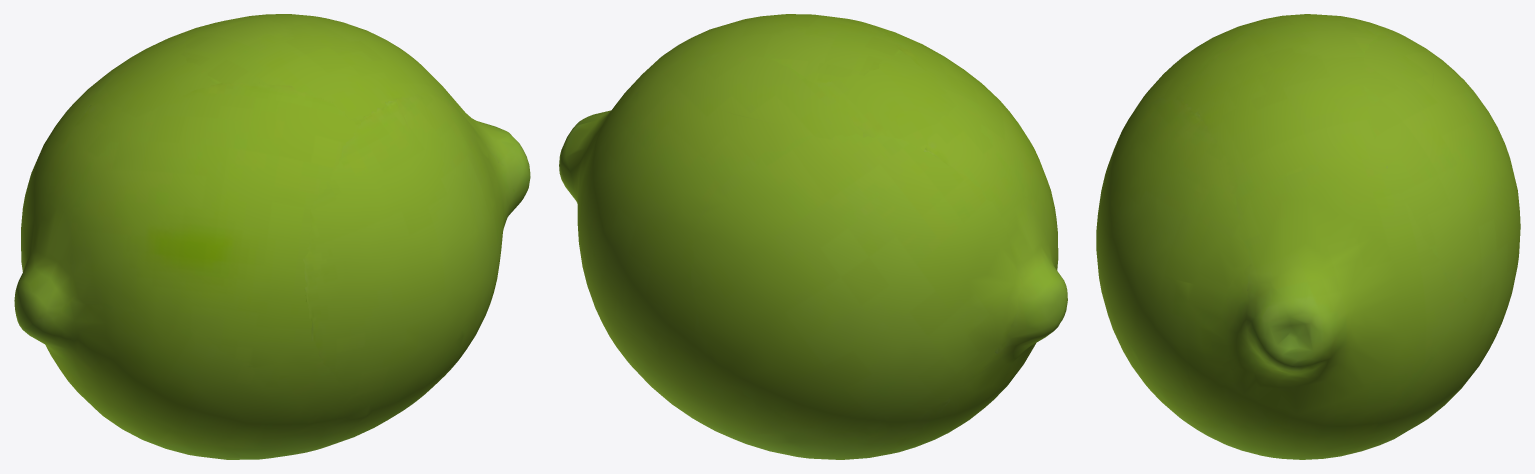
The model's file is lime.glb.
3 views of the same model, side by side, from view 1: azimuth 30°, elevation 25°; view 2: azimuth 150°, elevation 25°; view 3: azimuth 270°, elevation 25° (orthographic).
Visible parts, largest first — view 1: material; view 2: material; view 3: material.
Boxes of the visible parts, <box> form: material: <box>14,14,530,459</box>; material: <box>559,14,1067,459</box>; material: <box>1096,14,1520,459</box>.
Bounding box in the file's own units: 1.19 × 0.9243 × 0.8976.
1 material, 1 textured.
